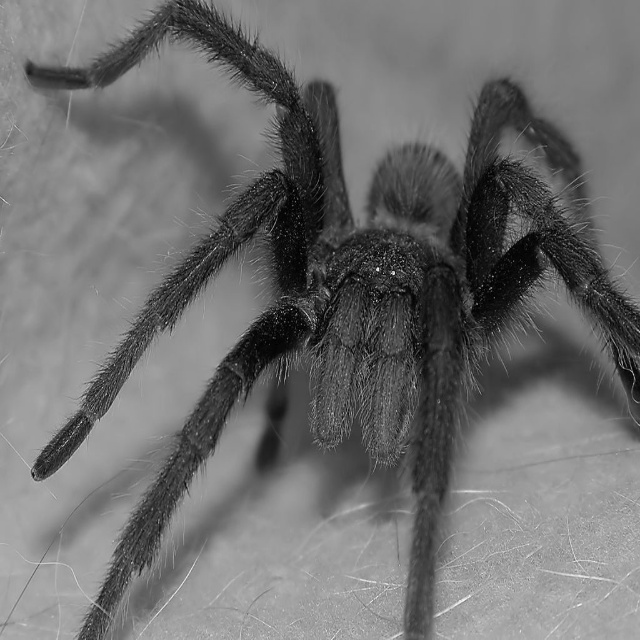Spider: (24, 1, 640, 639)
